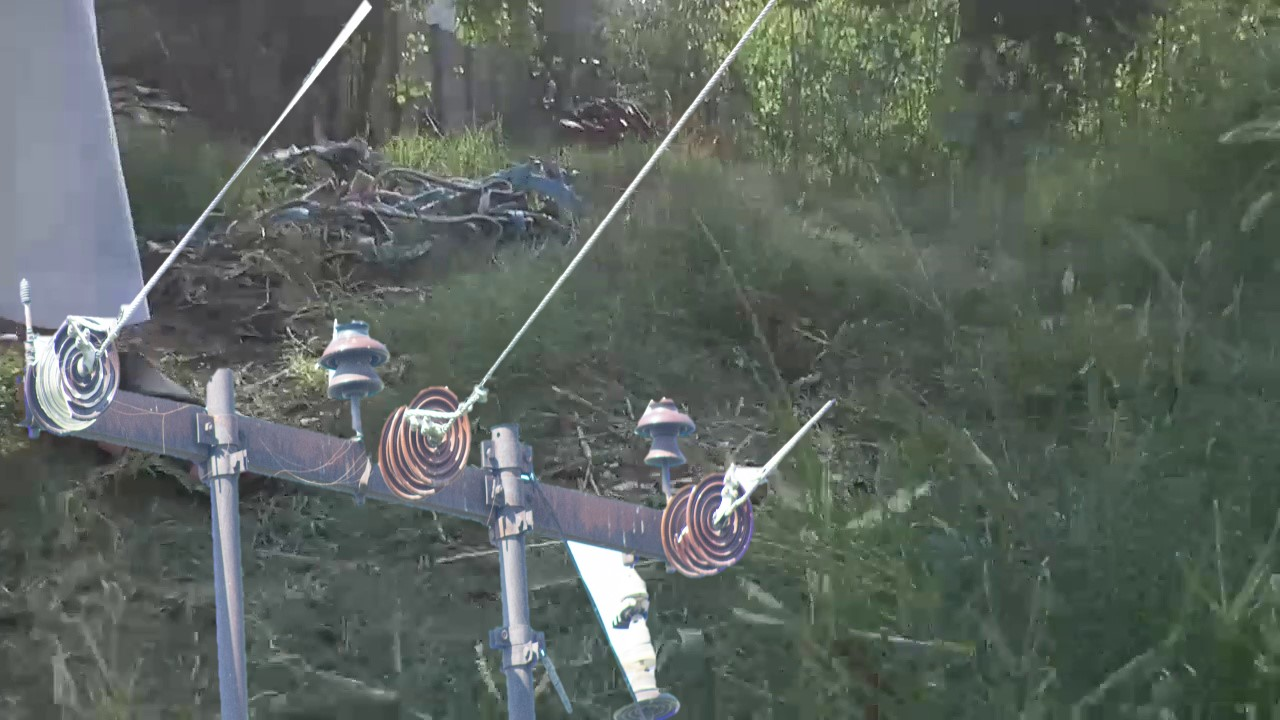defect_disc: (51, 313, 123, 422)
insulator_disc: (398, 379, 476, 486), (682, 467, 757, 565)
